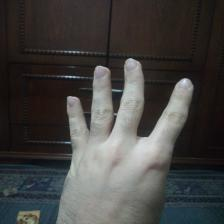four: (43, 52, 205, 221)
